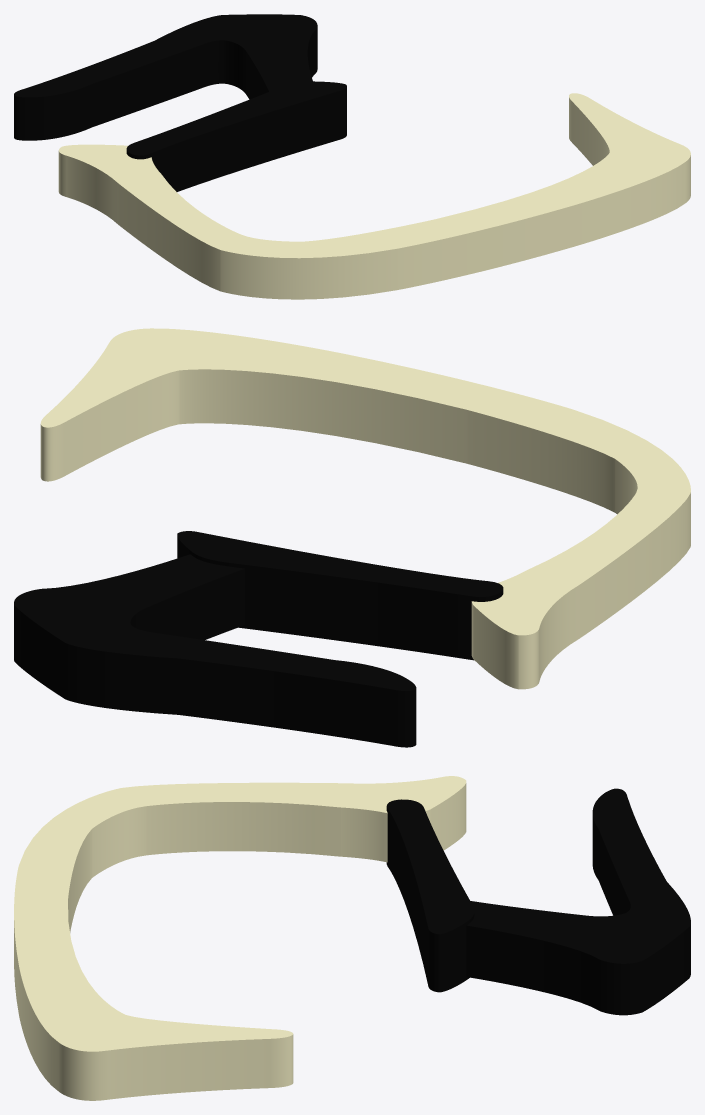
The model's file is hanzi119.fbx.
3 renders of one model, top to bottom at view 1: azimuth 30°, elevation 25°; view 2: azimuth 150°, elevation 25°; view 3: azimuth 270°, elevation 25°, orthographic. The views are drawn at different scales.
Parts seen in each view (by area): view 1: Curve.002, Curve, Curve.001; view 2: Curve.002, Curve, Curve.001; view 3: Curve.002, Curve, Curve.001.
Boxes of the visible parts, x1,y1,x2,y2 form: Curve.002: (58, 93, 690, 299); Curve: (14, 14, 317, 140); Curve.001: (126, 81, 346, 191); Curve.002: (40, 328, 690, 689); Curve: (14, 554, 416, 747); Curve.001: (177, 531, 503, 660); Curve.002: (14, 776, 466, 1100); Curve: (466, 788, 690, 1015); Curve.001: (386, 799, 474, 992).
Bounding box in the file's own units: 19.91 × 20.66 × 1.96.
